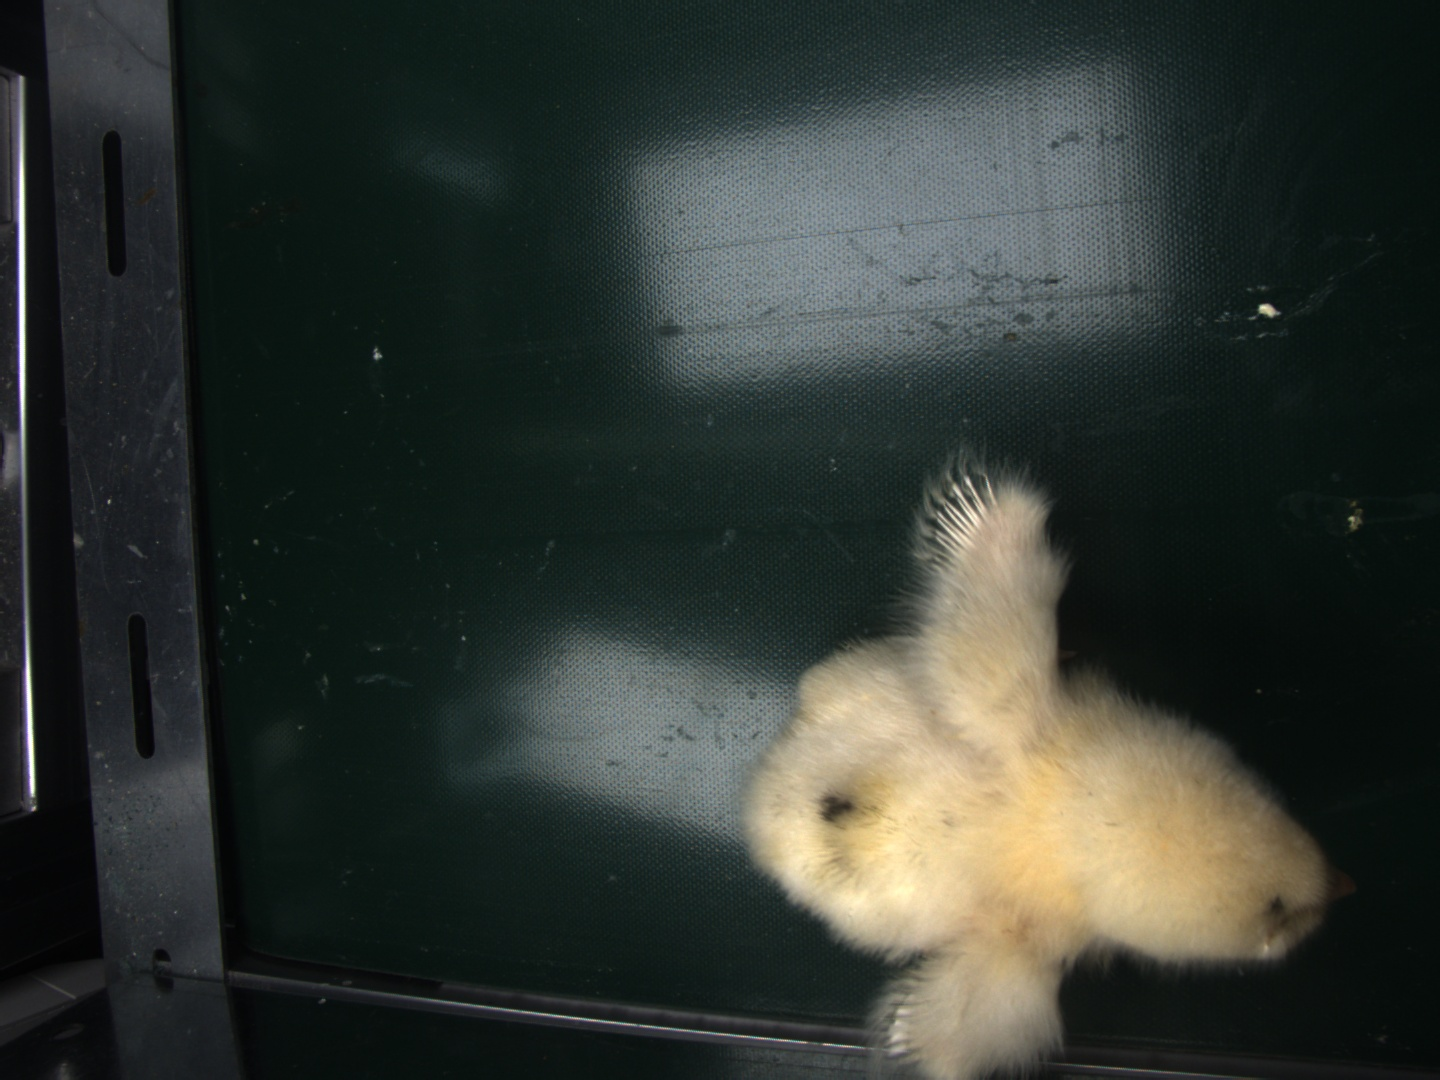male: (924, 472, 1000, 559)
